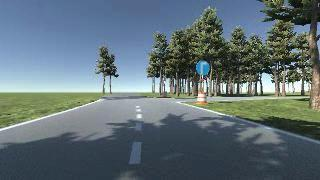turn_right: (195, 60, 210, 75)
